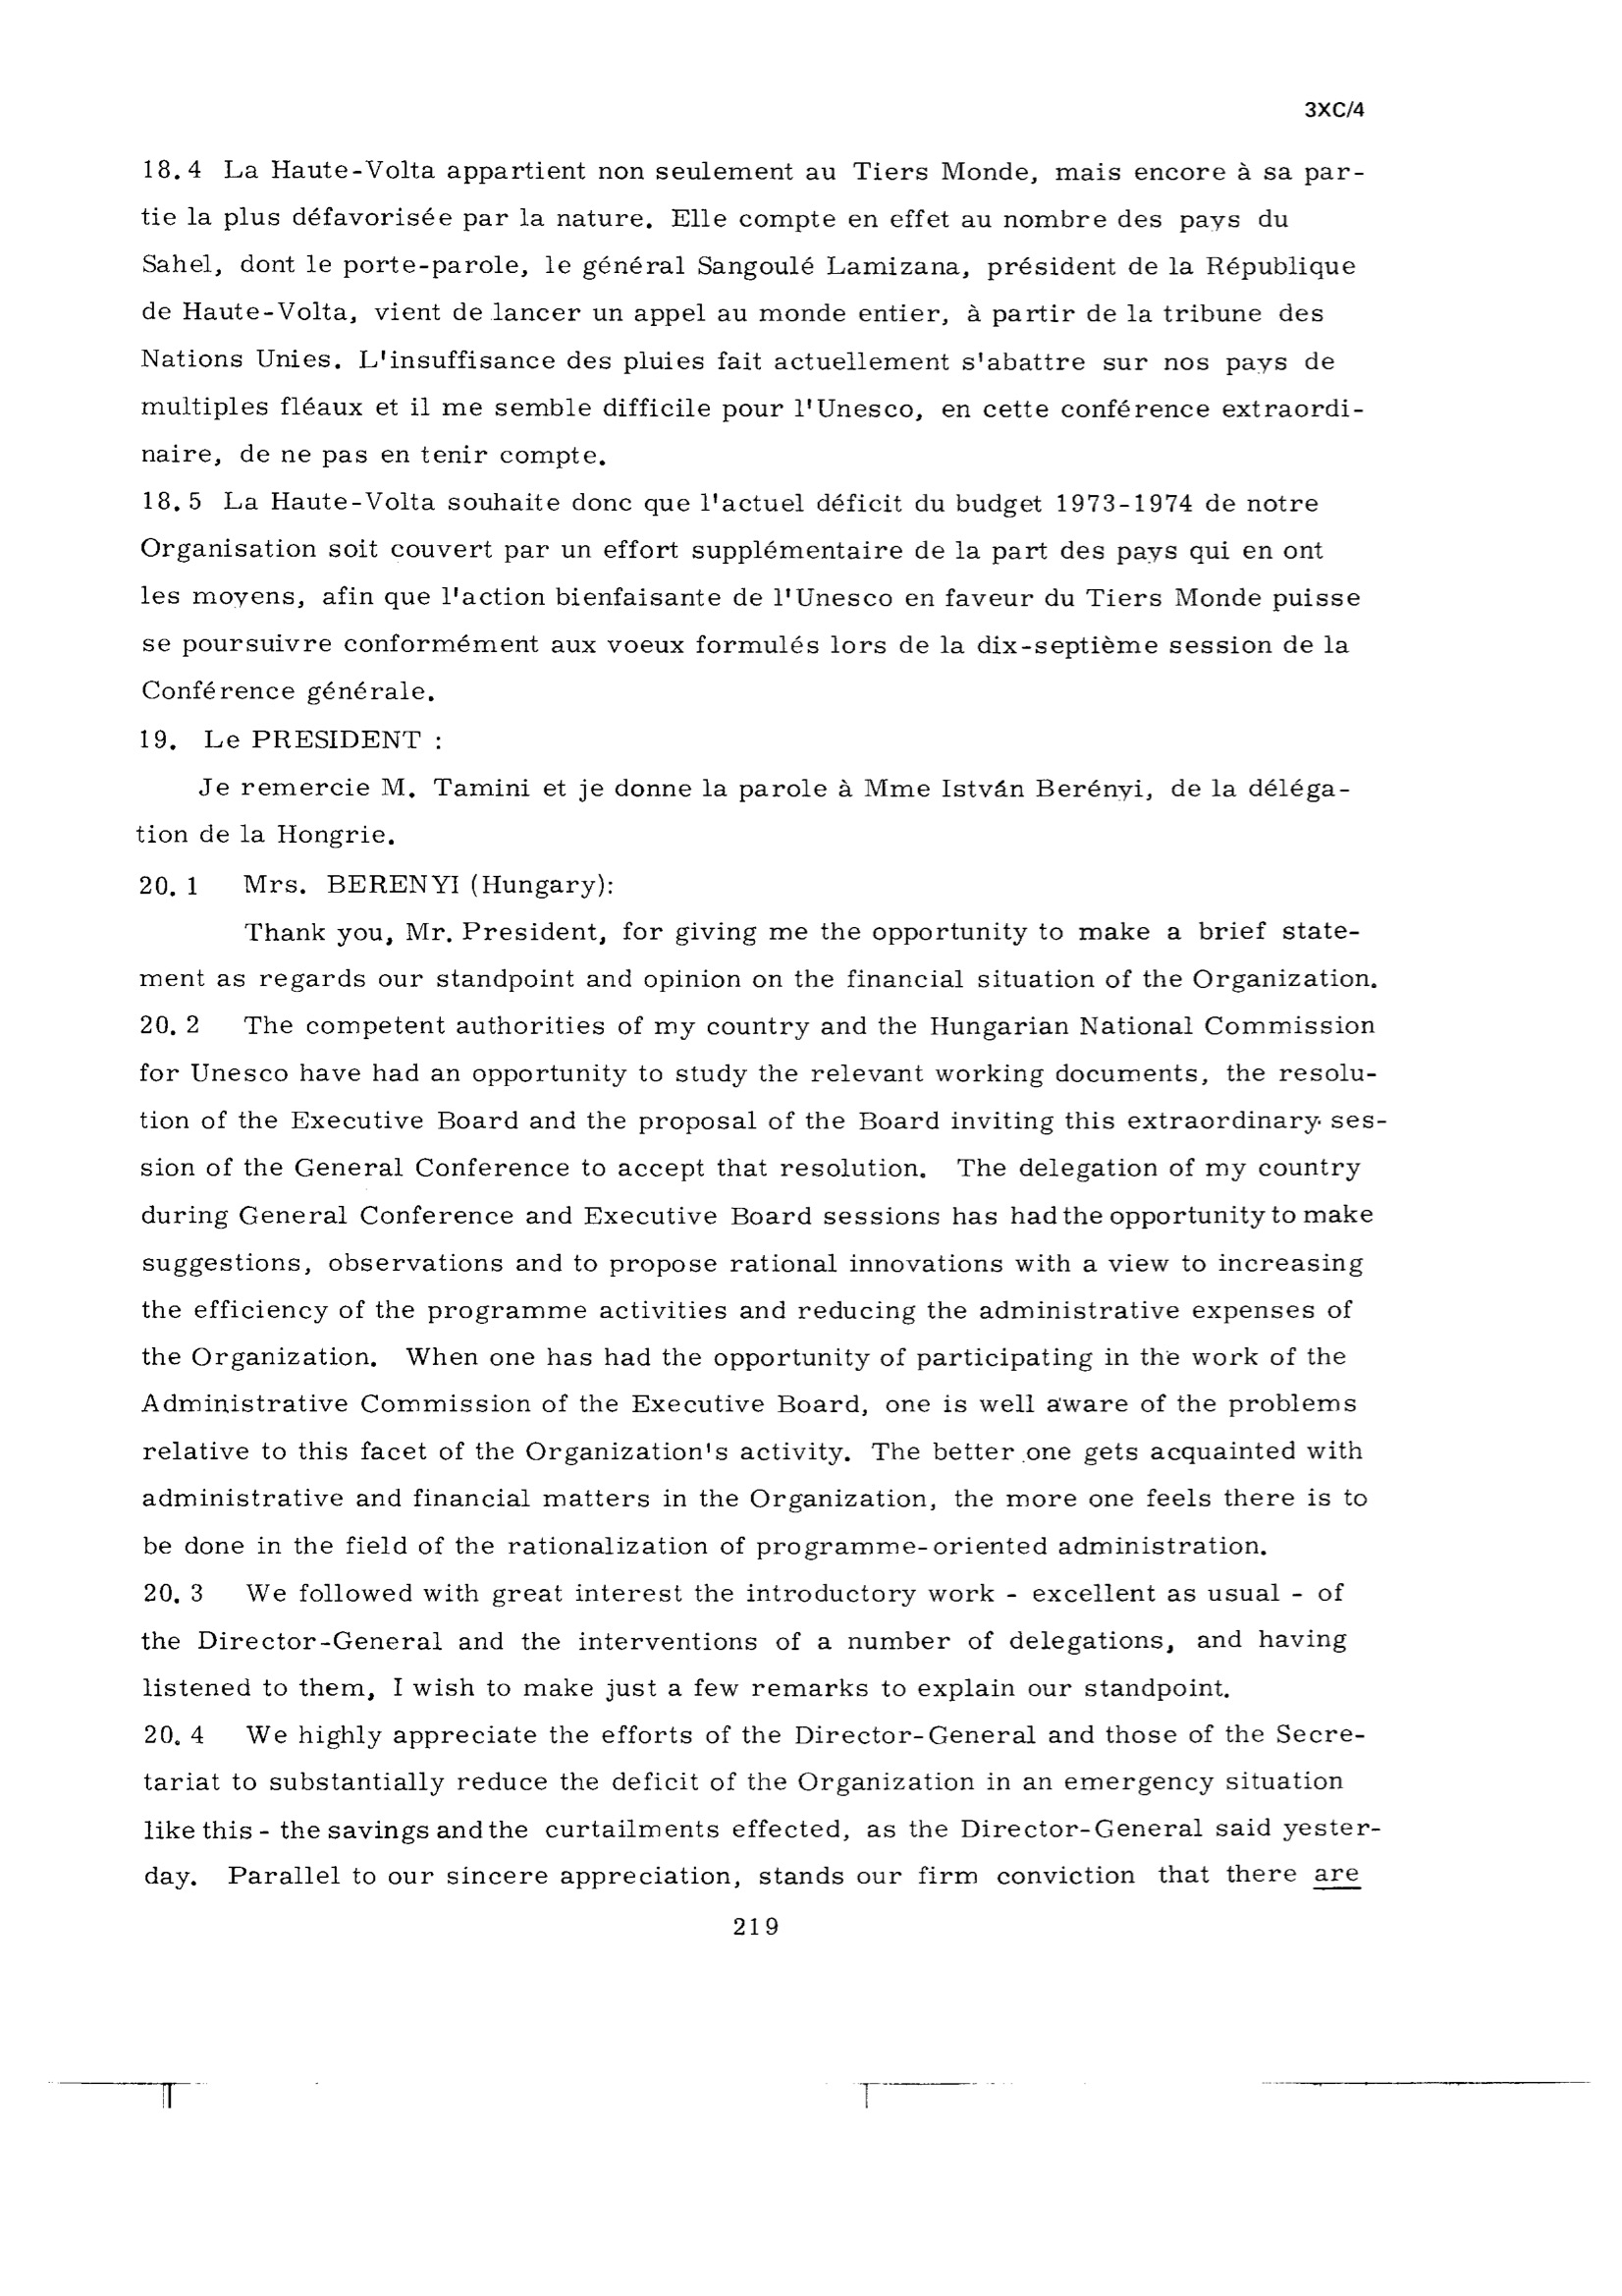MainZone-ListItem: (124, 999, 1389, 1560), (130, 146, 1373, 476), (128, 478, 1369, 709), (130, 1714, 1386, 1904), (128, 1572, 1376, 1710), (129, 859, 631, 908), (130, 716, 454, 760)
MainZone-P: (127, 767, 1371, 859), (128, 910, 1385, 997)
TitlePageZone: (1294, 92, 1373, 128), (723, 1909, 786, 1947)
